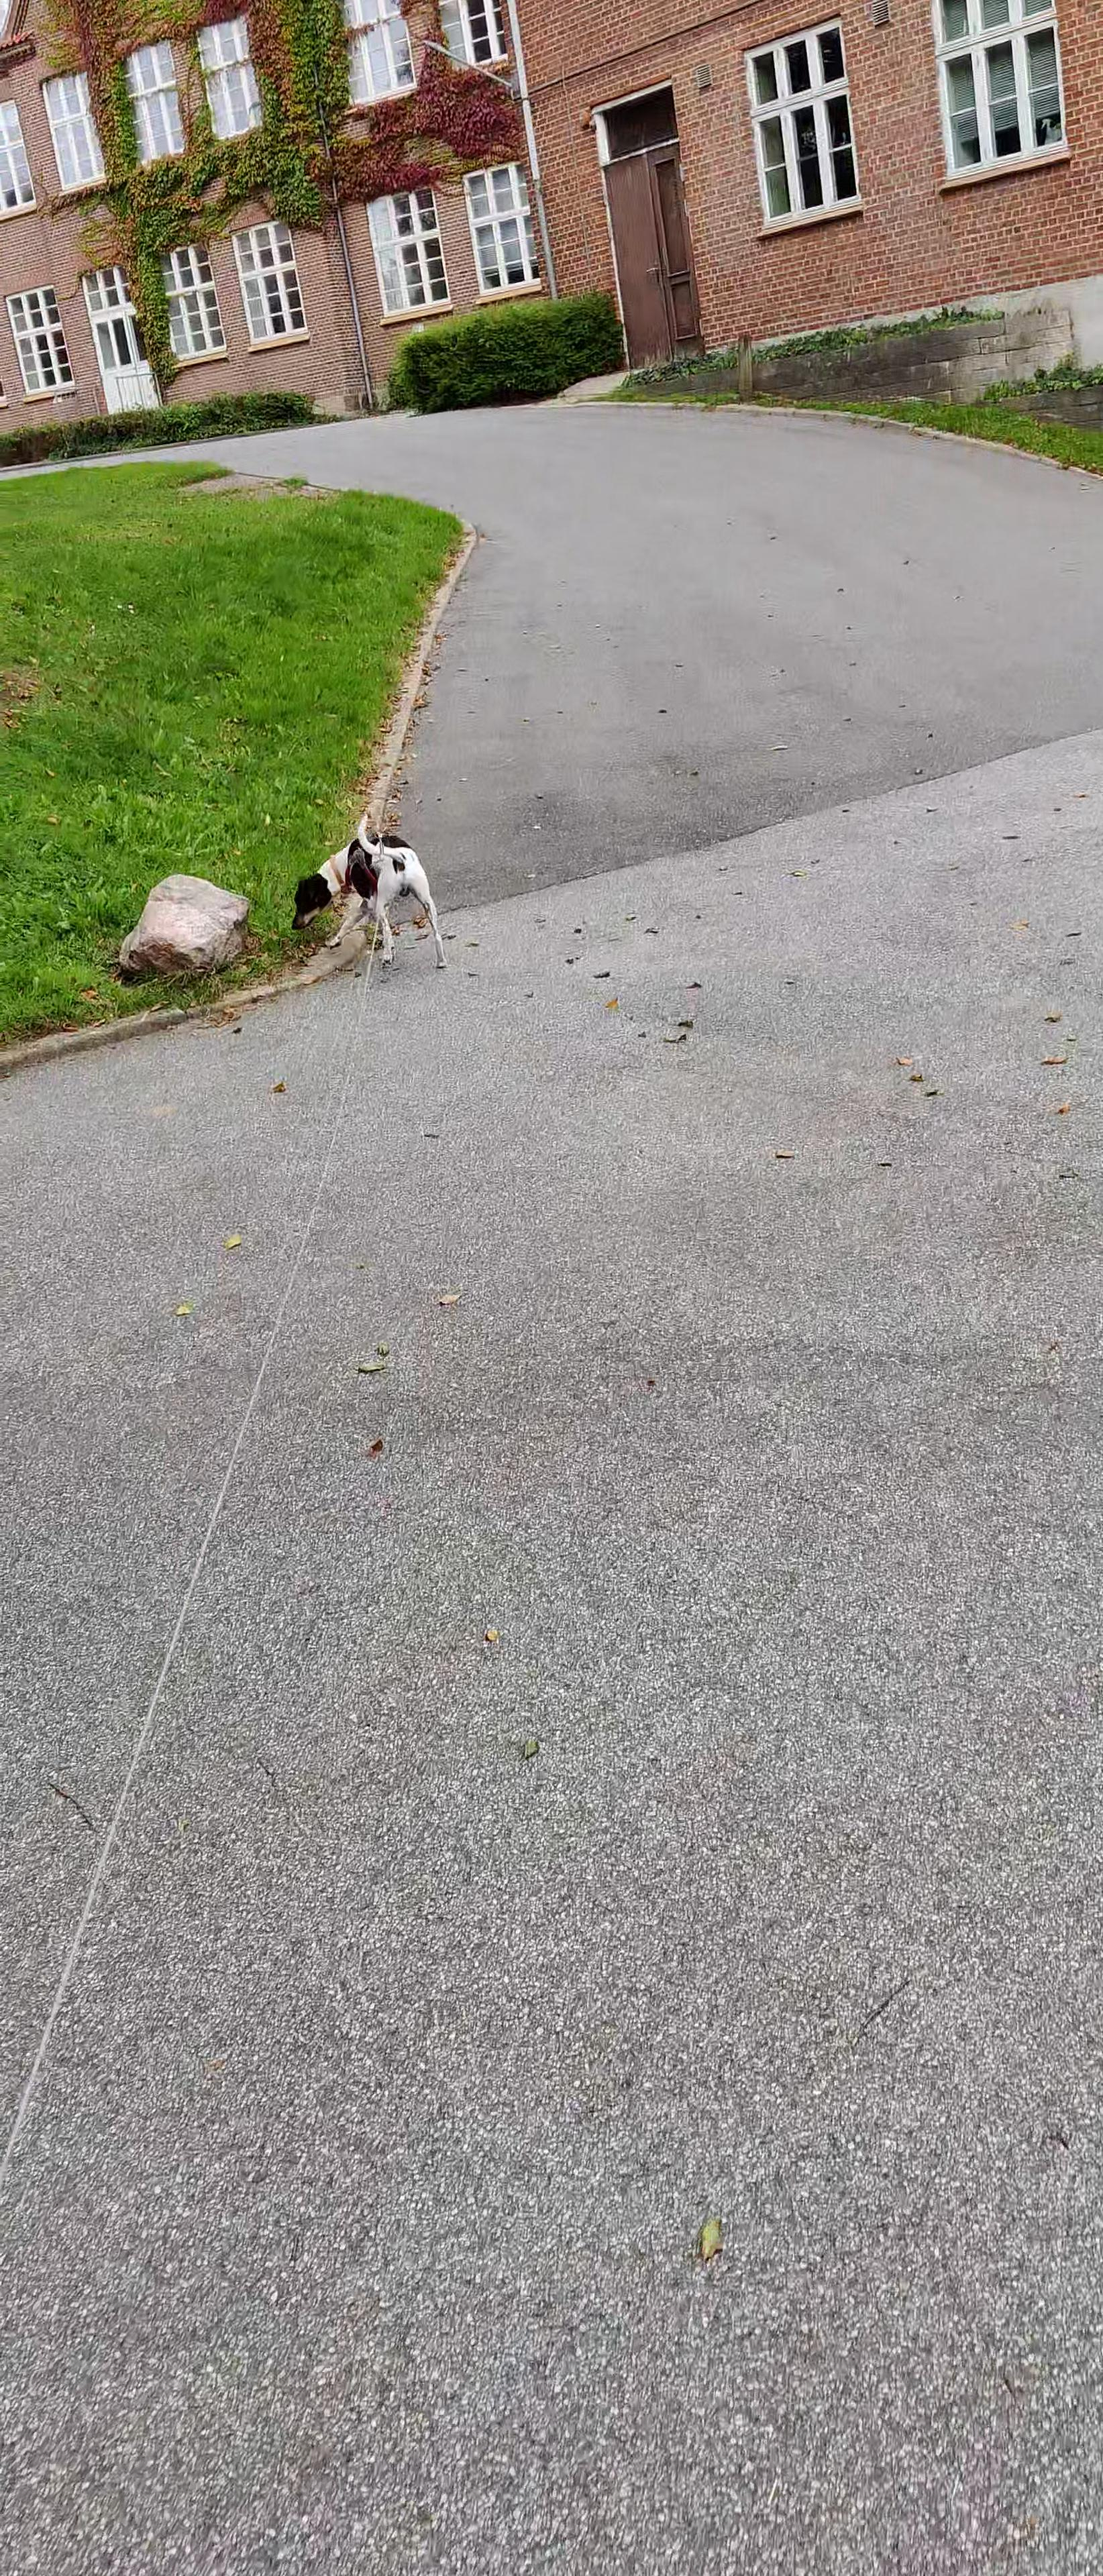Dog: (289, 805, 454, 974)
